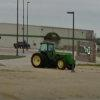Tractor: (24, 32, 81, 84)
